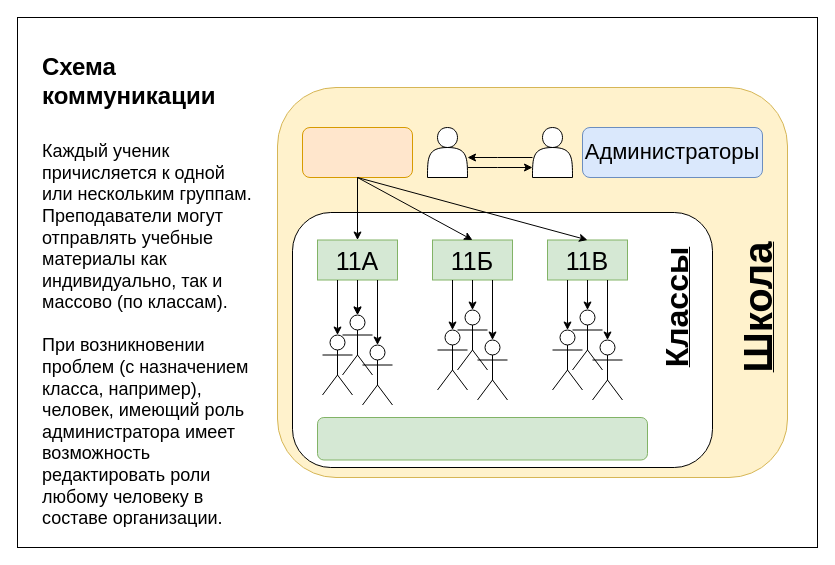
Some shapes in this 835 by 565 pixel diagram are drawn without their labels. The centre of each missing label's shape, as x and y in pixels:
Ученики: (482,438)
Учитель: (357,152)
